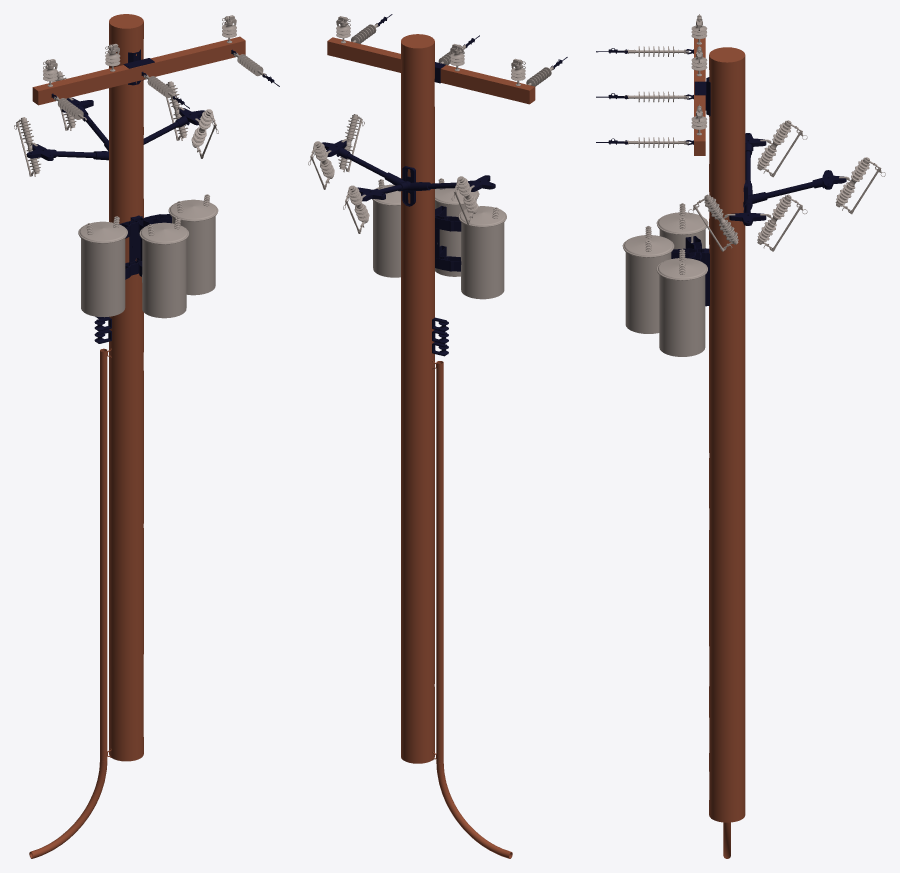
Rendered from Assem-Part-1.glb.
3 views of the same model, side by side, from view 1: azimuth 30°, elevation 25°; view 2: azimuth 150°, elevation 25°; view 3: azimuth 270°, elevation 25° (orthographic). The views are drawn at different scales.
Visible parts, largest first — view 1: Pole_assembly_Rev.1.0001 Pole_assembly_Rev.1.0001 [927188], Transformer[color] Transformer[color] [1387325], Transformer[color] Transformer[color] [929241], Cross-Arm_8ft[color] Cross-Arm_8ft[color] [928788], Transformer[color] Transformer[color] [929240], Distribution_3part_Standoff[color] Distribution_3part_Stando, Transformer-Bracket[BLUE].0008 Transformer-Bracket[BLUE].000, Arrester w_out Bracket Arrester w_out Bracket [979812], Arrester w_out Bracket Arrester w_out Bracket [980301]; view 2: Pole_assembly_Rev.1.0001 Pole_assembly_Rev.1.0001 [927188], Transformer[color] Transformer[color] [929241], Cross-Arm_8ft[color] Cross-Arm_8ft[color] [928788], Transformer[color] Transformer[color] [929240], Distribution_3part_Standoff[color] Distribution_3part_Stando, Transformer[color] Transformer[color] [1387325], Transformer-Bracket[BLUE].0008 Transformer-Bracket[BLUE].000, Arrester w_out Bracket Arrester w_out Bracket [980301], Arrester w_out Bracket Arrester w_out Bracket [980344], Arrester w_out Bracket Arrester w_out Bracket [980268], Arrester w_out Bracket Arrester w_out Bracket [979812]; view 3: Pole_assembly_Rev.1.0001 Pole_assembly_Rev.1.0001 [927188], Transformer[color] Transformer[color] [929240], Transformer[color] Transformer[color] [1387325], Distribution_3part_Standoff[color] Distribution_3part_Stando, Transformer[color] Transformer[color] [929241], Arrester w_out Bracket Arrester w_out Bracket [980301], Arrester w_out Bracket Arrester w_out Bracket [980344], Arrester w_out Bracket Arrester w_out Bracket [979812], Arrester w_out Bracket Arrester w_out Bracket [980268], Cross-Arm_8ft[color] Cross-Arm_8ft[color] [928788], Transformer-Bracket[BLUE].0008 Transformer-Bracket[BLUE].000.
Part boxes in pixels (x1=…): Pole_assembly_Rev.1.0001 Pole_assembly_Rev.1.0001 [927188]: x1=29, y1=14, x2=143, y2=858; Transformer[color] Transformer[color] [1387325]: x1=139, y1=217, x2=189, y2=318; Transformer[color] Transformer[color] [929241]: x1=78, y1=216, x2=127, y2=317; Cross-Arm_8ft[color] Cross-Arm_8ft[color] [928788]: x1=32, y1=36, x2=245, y2=105; Transformer[color] Transformer[color] [929240]: x1=168, y1=194, x2=218, y2=295; Distribution_3part_Standoff[color] Distribution_3part_Stando: x1=27, y1=98, x2=204, y2=160; Transformer-Bracket[BLUE].0008 Transformer-Bracket[BLUE].000: x1=119, y1=214, x2=171, y2=279; Arrester w_out Bracket Arrester w_out Bracket [979812]: x1=191, y1=109, x2=218, y2=158; Arrester w_out Bracket Arrester w_out Bracket [980301]: x1=14, y1=117, x2=40, y2=176; Pole_assembly_Rev.1.0001 Pole_assembly_Rev.1.0001 [927188]: x1=401, y1=34, x2=512, y2=858; Transformer[color] Transformer[color] [929241]: x1=458, y1=206, x2=506, y2=299; Cross-Arm_8ft[color] Cross-Arm_8ft[color] [928788]: x1=327, y1=37, x2=535, y2=104; Transformer[color] Transformer[color] [929240]: x1=372, y1=179, x2=400, y2=277; Distribution_3part_Standoff[color] Distribution_3part_Stando: x1=322, y1=140, x2=495, y2=206; Transformer[color] Transformer[color] [1387325]: x1=435, y1=178, x2=479, y2=276; Transformer-Bracket[BLUE].0008 Transformer-Bracket[BLUE].000: x1=435, y1=206, x2=461, y2=271; Arrester w_out Bracket Arrester w_out Bracket [980301]: x1=451, y1=176, x2=478, y2=224; Arrester w_out Bracket Arrester w_out Bracket [980344]: x1=343, y1=185, x2=369, y2=233; Arrester w_out Bracket Arrester w_out Bracket [980268]: x1=308, y1=141, x2=334, y2=189; Arrester w_out Bracket Arrester w_out Bracket [979812]: x1=338, y1=114, x2=364, y2=172; Pole_assembly_Rev.1.0001 Pole_assembly_Rev.1.0001 [927188]: x1=709, y1=47, x2=745, y2=858; Transformer[color] Transformer[color] [929240]: x1=656, y1=248, x2=707, y2=356; Transformer[color] Transformer[color] [1387325]: x1=622, y1=226, x2=674, y2=333; Distribution_3part_Standoff[color] Distribution_3part_Stando: x1=729, y1=133, x2=846, y2=225; Transformer[color] Transformer[color] [929241]: x1=656, y1=203, x2=708, y2=249; Arrester w_out Bracket Arrester w_out Bracket [980301]: x1=757, y1=120, x2=807, y2=177; Arrester w_out Bracket Arrester w_out Bracket [980344]: x1=835, y1=157, x2=885, y2=214; Arrester w_out Bracket Arrester w_out Bracket [979812]: x1=688, y1=194, x2=738, y2=251; Arrester w_out Bracket Arrester w_out Bracket [980268]: x1=757, y1=194, x2=807, y2=251; Cross-Arm_8ft[color] Cross-Arm_8ft[color] [928788]: x1=694, y1=38, x2=705, y2=155; Transformer-Bracket[BLUE].0008 Transformer-Bracket[BLUE].000: x1=671, y1=236, x2=709, y2=306.
Size of the model in its own units: 2.44 by 9.14 by 2.85.
